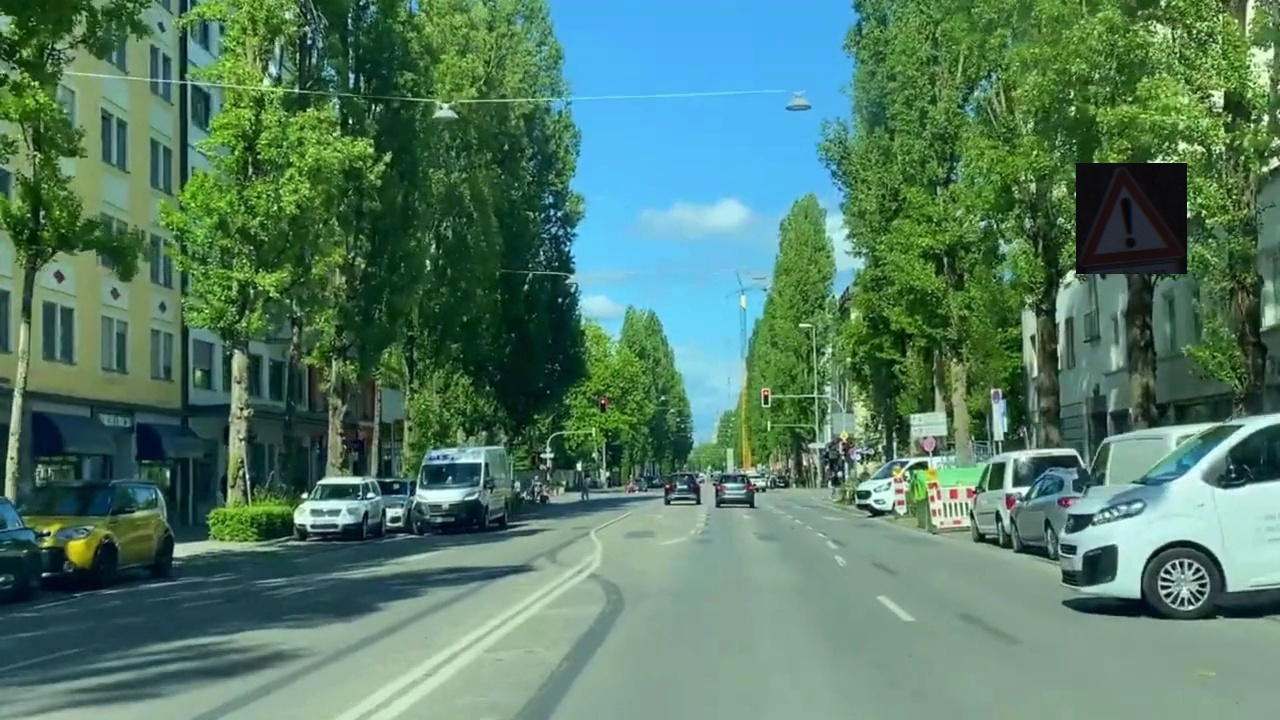Caution: (1076, 163, 1187, 274)
